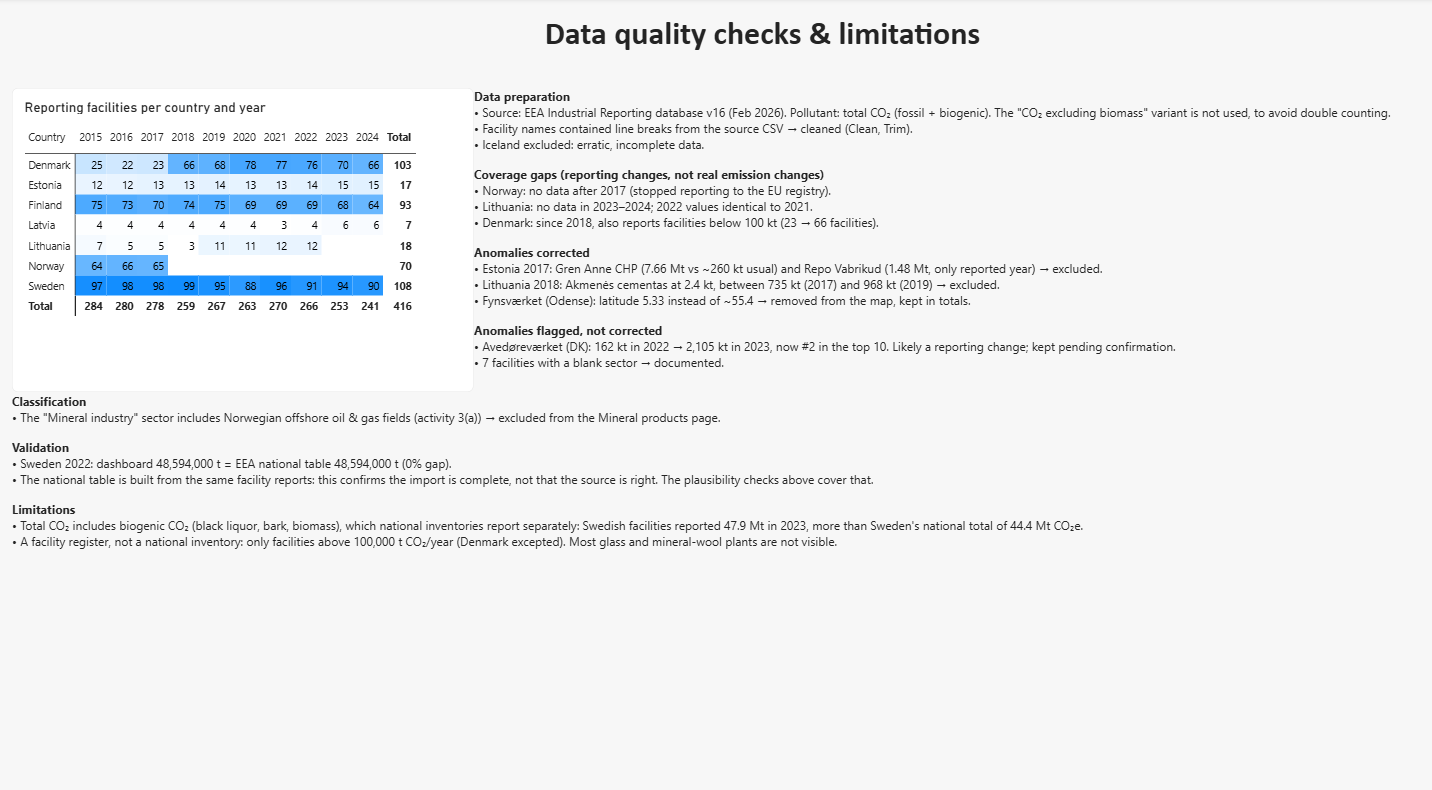

The dashboard page shown, as its layout file describes it:
{"tool":"powerbi","page":{"name":"Data Quality","canvas":[1920,1080],"ordinal":2},"visuals":[{"type":"pivotTable","title":"Reporting facilities per country and year","fields":{"Columns":["Sites.countryName"],"Rows":["Years.Annee"],"Values":["_Measures.Site count"]},"box":[20.4,134.3,570,371.8],"z":0},{"type":"textbox","box":[615.5,134,1303.7,754.1],"z":1000},{"type":"textbox","box":[112.5,35,1807.5,87.5],"z":1001}]}

Visuals, with their boxes in screenshot pixels (x1, y1, x2, y2), scaled from the page's 1920x1080 canvas onto the 1432x790 screenshot:
"Reporting facilities per country and year" pivotTable: <box>15,98,440,370</box>
textbox: <box>459,98,1431,650</box>
textbox: <box>84,26,1431,90</box>
